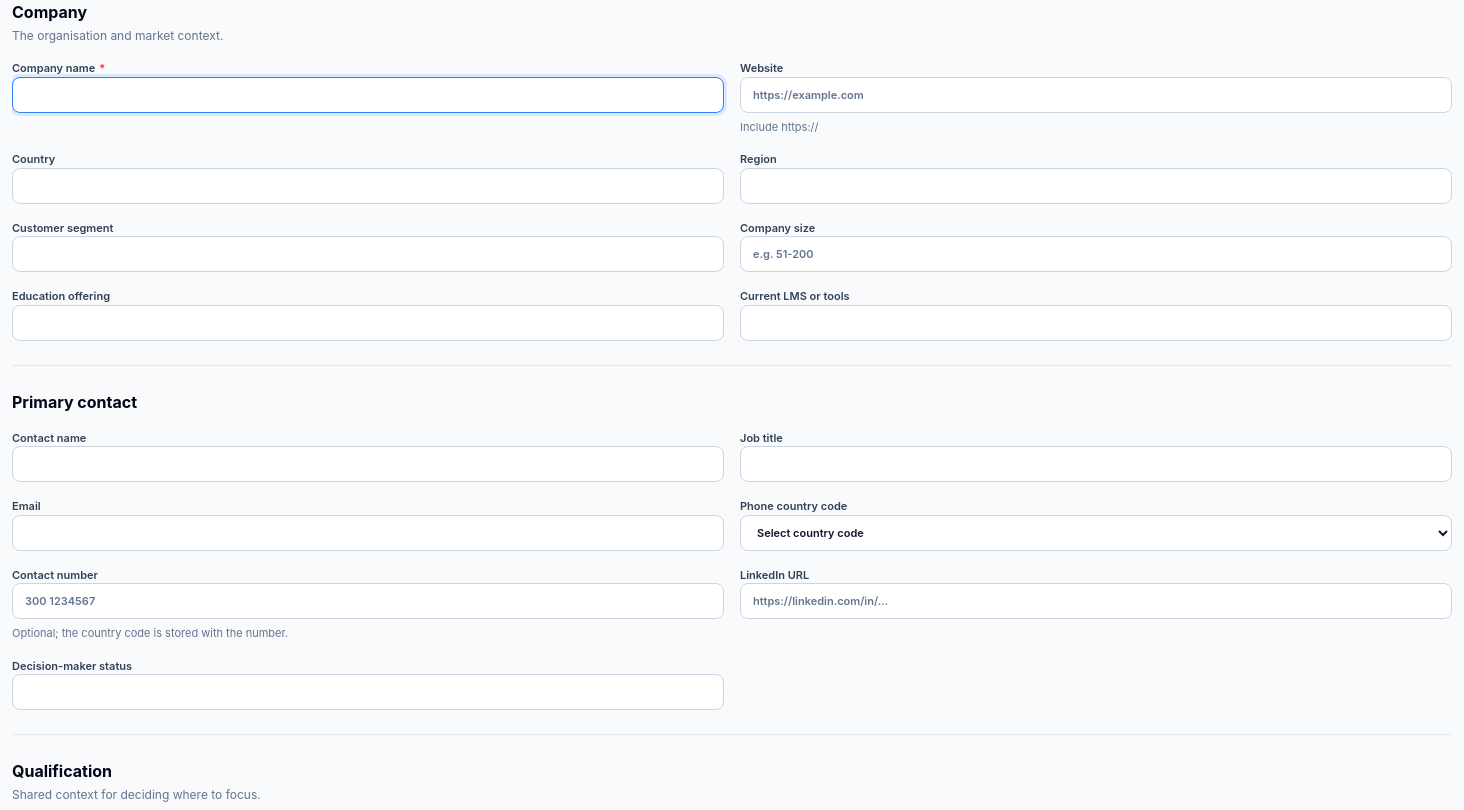
it: lead form › turns structured access errors into a safe actionable message
Type "Access Check" into the field labelled "Company name*" at (368, 94), box [12,76,724,112]
(page scrolled)
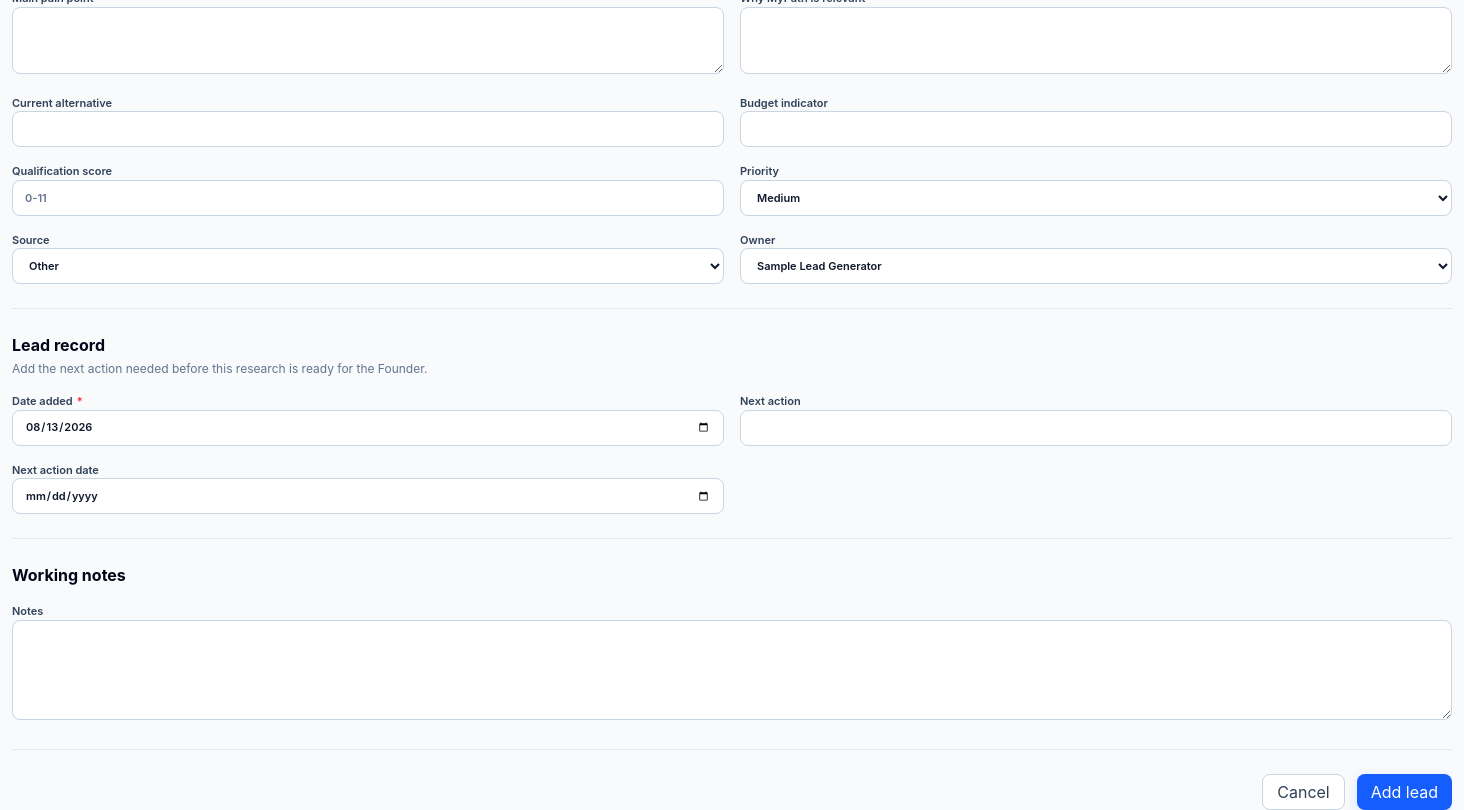
Click the button "Add lead" at (1404, 792), box [1357,774,1452,809]
(page scrolled)
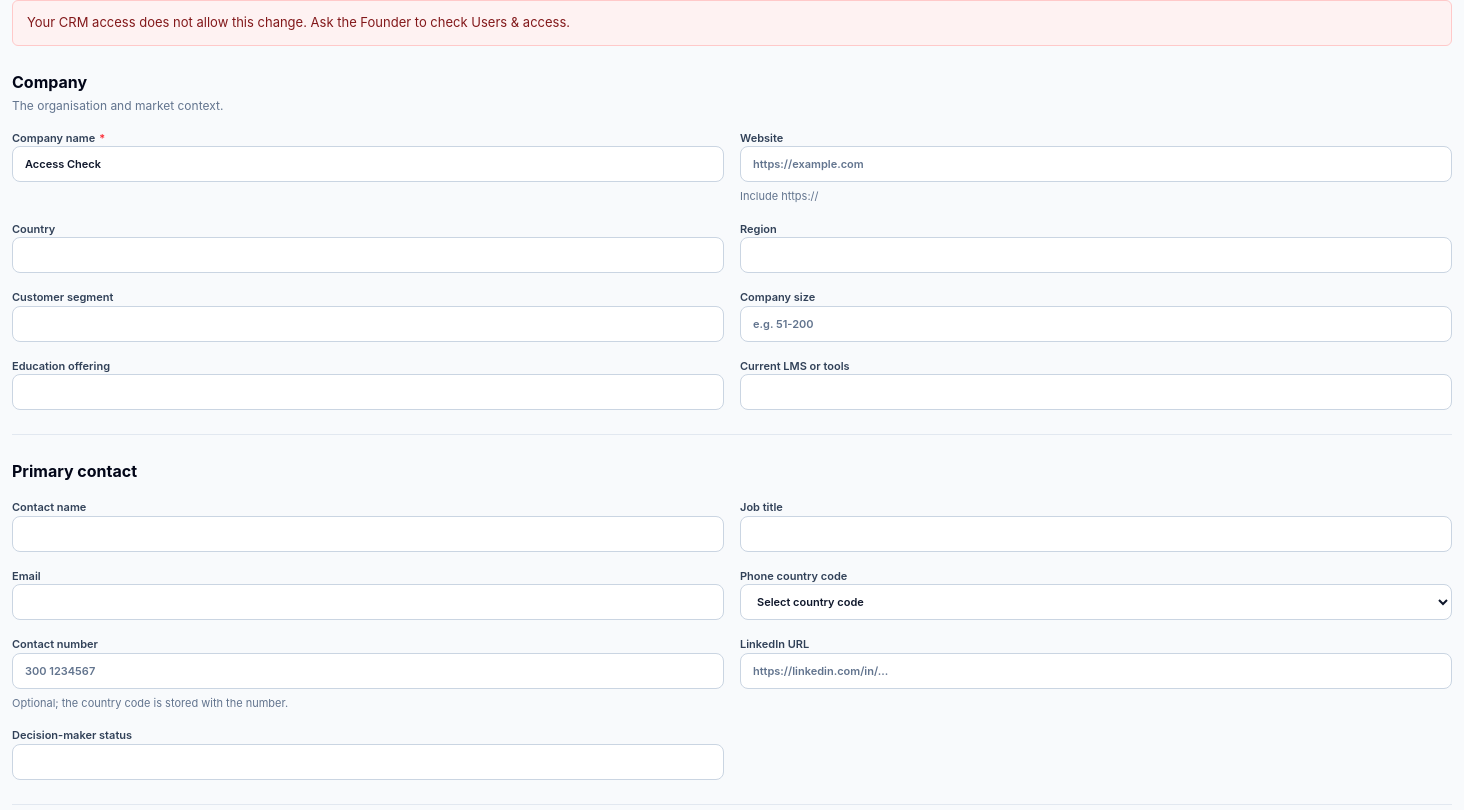
Result: the text "Ask the Founder to check Users & access" is shown at [27,14,570,30]
